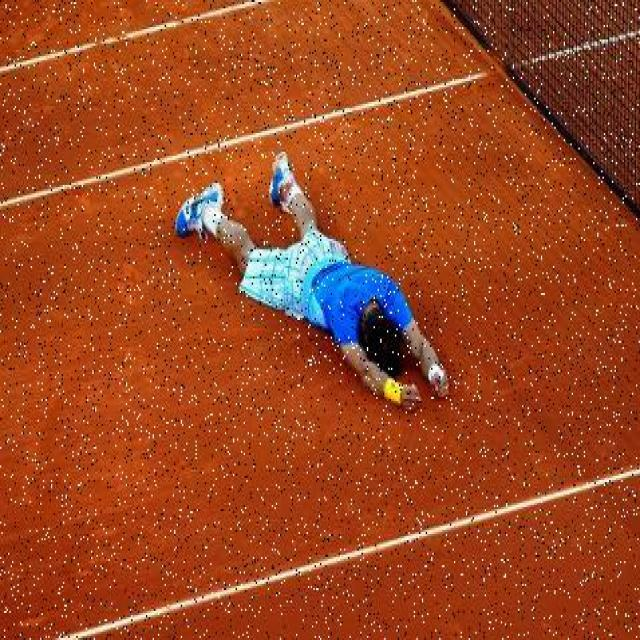fall: (197, 164, 450, 413)
